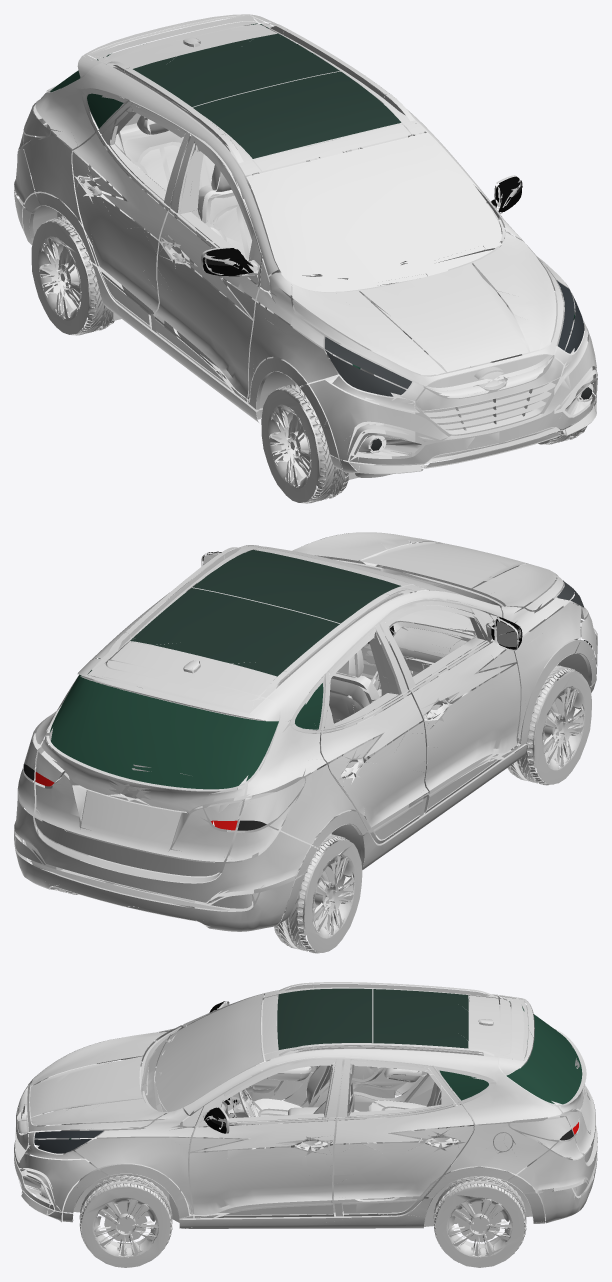
The model's file is hyundai-ix35-tucson-e239ad.glb.
3 renders of one model, top to bottom at view 1: azimuth 30°, elevation 25°; view 2: azimuth 150°, elevation 25°; view 3: azimuth 270°, elevation 25°, orthographic. The views are drawn at different scales.
Visible parts, largest first — view 1: body, wheel-front-right, wheel-back-right; view 2: body, wheel-back-right, wheel-front-right; view 3: body, wheel-front-left, wheel-back-left.
Boxes of the visible parts, x1,y1,x2,y2 form: body: (14, 14, 597, 503); wheel-front-right: (270, 383, 337, 503); wheel-back-right: (39, 216, 106, 335); body: (14, 532, 597, 953); wheel-back-right: (286, 834, 354, 953); wheel-front-right: (517, 665, 584, 785); body: (14, 982, 597, 1267); wheel-front-left: (79, 1175, 172, 1219); wheel-back-left: (433, 1176, 526, 1219).
Size of the model in its own units: 2.32 by 1.86 by 4.8.
